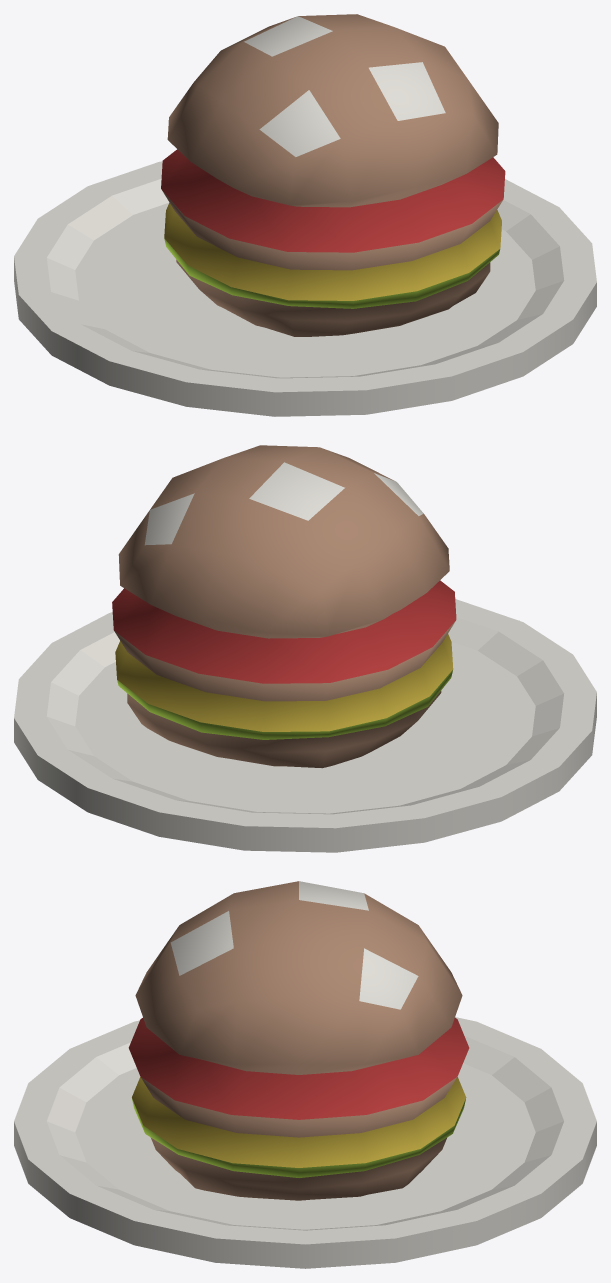
File: PLATEFOOD1.fbx
3 renders of one model, top to bottom at view 1: azimuth 30°, elevation 25°; view 2: azimuth 150°, elevation 25°; view 3: azimuth 270°, elevation 25°, orthographic.
Parts seen in each view (by area): view 1: PLATEFOOD1; view 2: PLATEFOOD1; view 3: PLATEFOOD1.
Part boxes in pixels (x1,y1,x2,y2): PLATEFOOD1: (14,14,596,416); PLATEFOOD1: (14,445,596,852); PLATEFOOD1: (14,881,596,1268).
Bounding box in the file's own units: 3.88 × 1.89 × 3.88.
